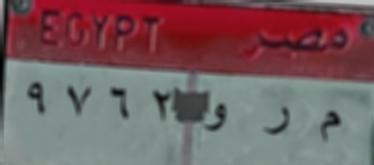2: (149, 87, 174, 127)
6: (106, 82, 132, 131)
7: (64, 81, 94, 125)
9: (24, 74, 50, 126)
meem: (315, 102, 342, 154)
raa: (260, 92, 294, 146)
waw: (204, 98, 230, 140)
